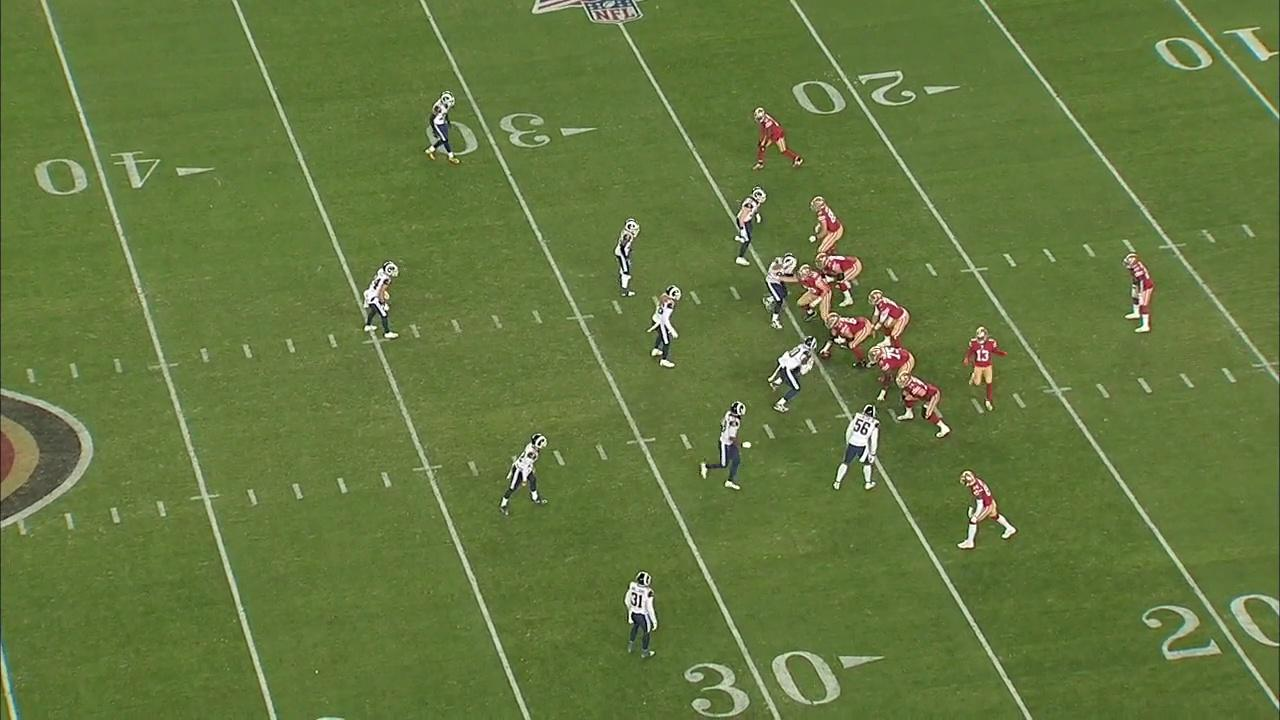defense: (697, 398, 750, 494), (830, 404, 885, 495), (770, 334, 820, 418), (496, 431, 547, 513), (622, 569, 659, 661), (361, 257, 400, 342), (727, 185, 766, 268), (649, 283, 682, 374), (755, 256, 795, 329), (425, 89, 458, 166), (615, 215, 642, 298)
oline: (896, 375, 952, 434), (868, 343, 919, 402), (823, 314, 872, 369), (819, 255, 865, 306), (798, 263, 827, 319)
qb: (867, 286, 911, 339)
skill: (955, 474, 1021, 553), (745, 104, 801, 167), (961, 326, 1004, 408), (1124, 250, 1155, 336), (805, 193, 845, 253)
